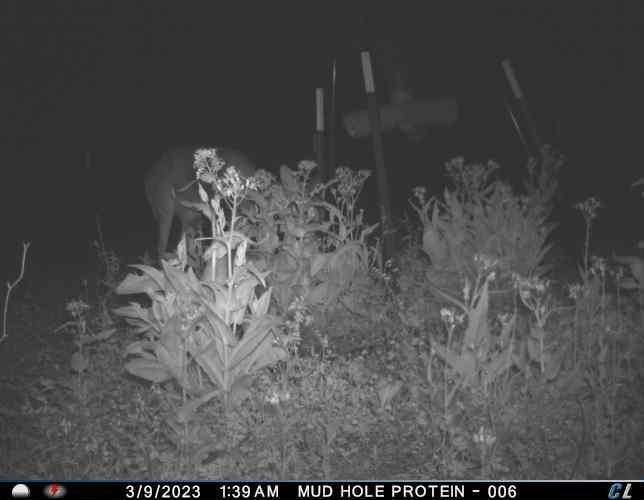Deer: (141, 143, 273, 251)
